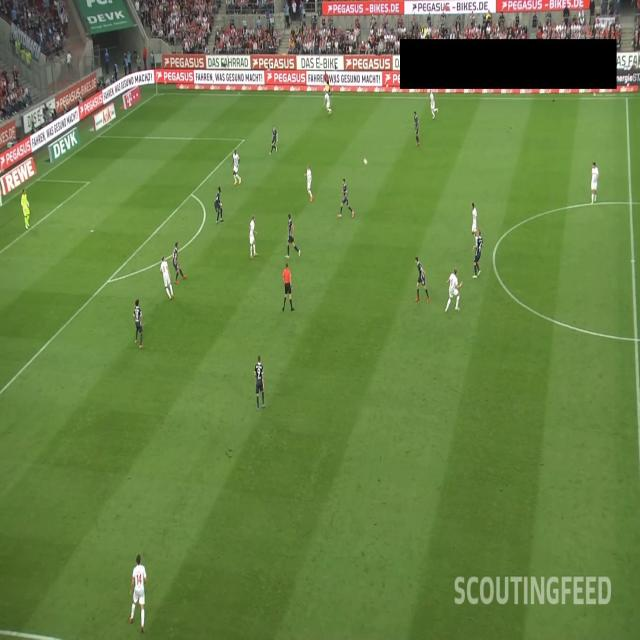ball: (363, 157, 368, 166)
